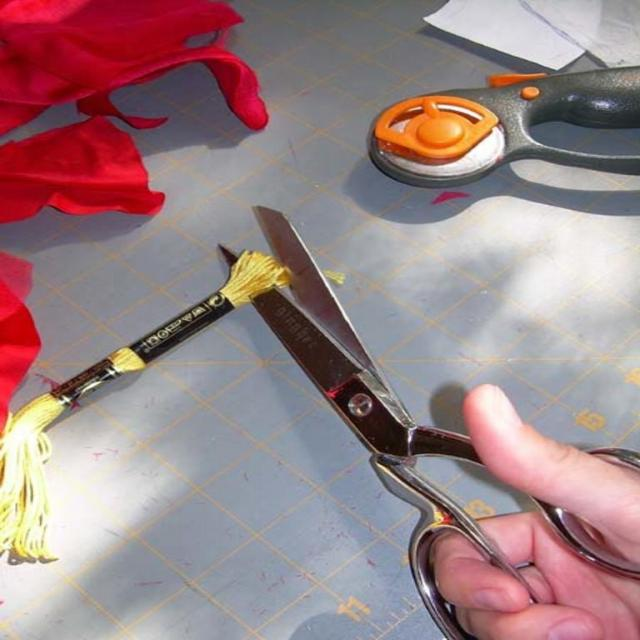scissor: (209, 204, 639, 639)
